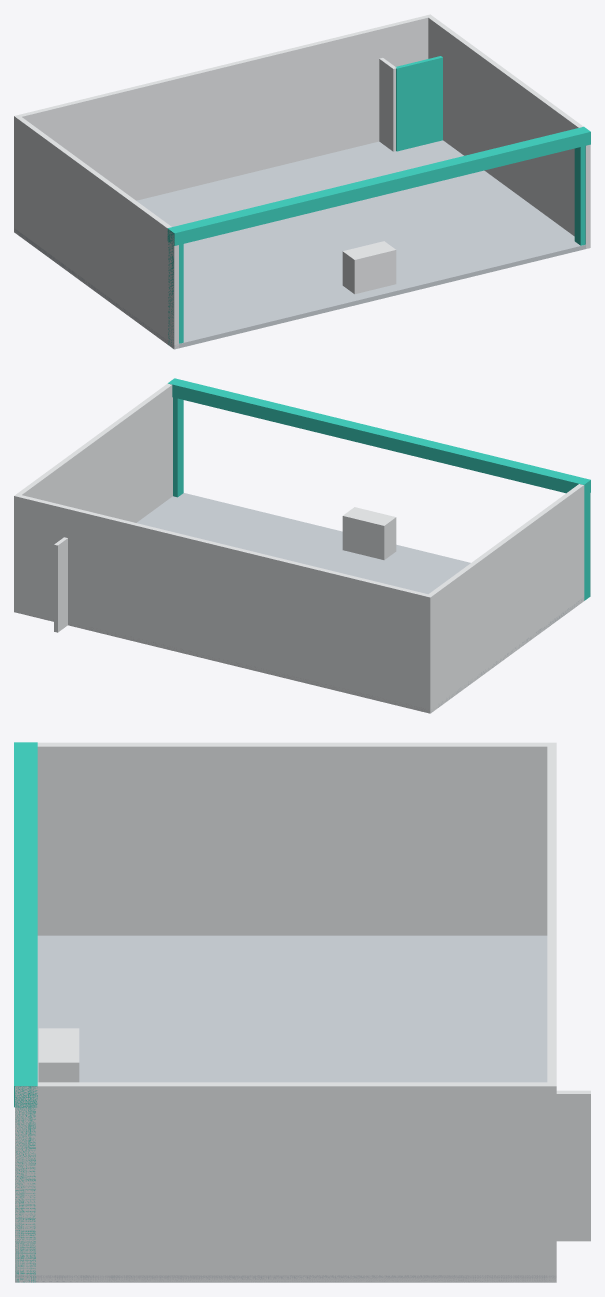
3 views of the same model, one above another, from view 1: azimuth 30°, elevation 25°; view 2: azimuth 150°, elevation 25°; view 3: azimuth 270°, elevation 25° (orthographic). The views are drawn at different scales.
Parts seen in each view (by area): view 1: Exhibition Booth Concept; view 2: Exhibition Booth Concept; view 3: Exhibition Booth Concept.
Boxes of the visible parts, box(x1,y1,x2,y2) form: Exhibition Booth Concept: box(14, 14, 590, 349); Exhibition Booth Concept: box(14, 378, 590, 713); Exhibition Booth Concept: box(14, 742, 590, 1282).
Bounding box in the file's own units: 12 × 3.2 × 8.52.
